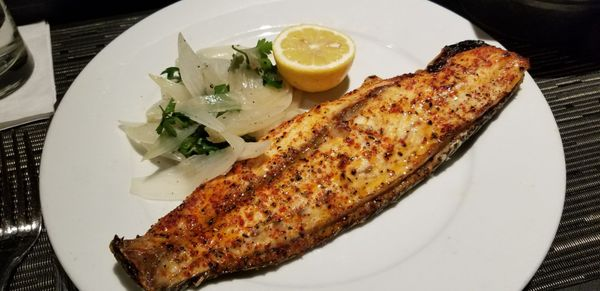pizza: (0, 0, 31, 97)
taco: (271, 24, 356, 93)
